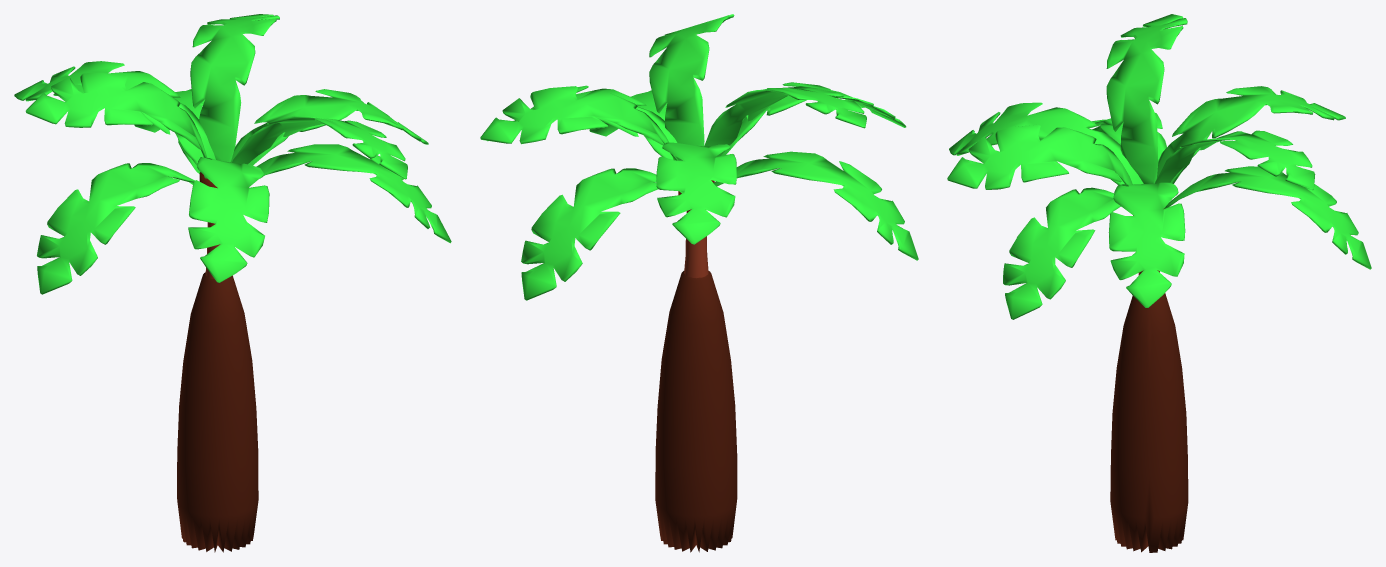
File: PalmTreeReducedPoly.fbx
3 views of the same model, side by side, from view 1: azimuth 30°, elevation 25°; view 2: azimuth 150°, elevation 25°; view 3: azimuth 270°, elevation 25° (orthographic). The views are drawn at different scales.
Parts seen in each view (by area): view 1: Leaves, Cylinder; view 2: Leaves, Cylinder, Cylinder.2; view 3: Leaves, Cylinder.
Part boxes in pixels (bbox=[...]): Leaves: bbox=[14, 14, 451, 294]; Cylinder: bbox=[177, 272, 258, 552]; Leaves: bbox=[480, 14, 918, 300]; Cylinder: bbox=[655, 271, 737, 552]; Cylinder.2: bbox=[684, 209, 708, 278]; Leaves: bbox=[947, 14, 1371, 319]; Cylinder: bbox=[1110, 293, 1188, 552].
Bounding box in the file's own units: 578 × 659 × 546.
